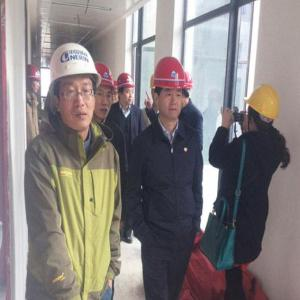red: (154, 59, 185, 120), (91, 61, 114, 124), (118, 74, 135, 109), (25, 63, 41, 95)
white: (51, 43, 98, 132)
yellow: (248, 83, 282, 136)
